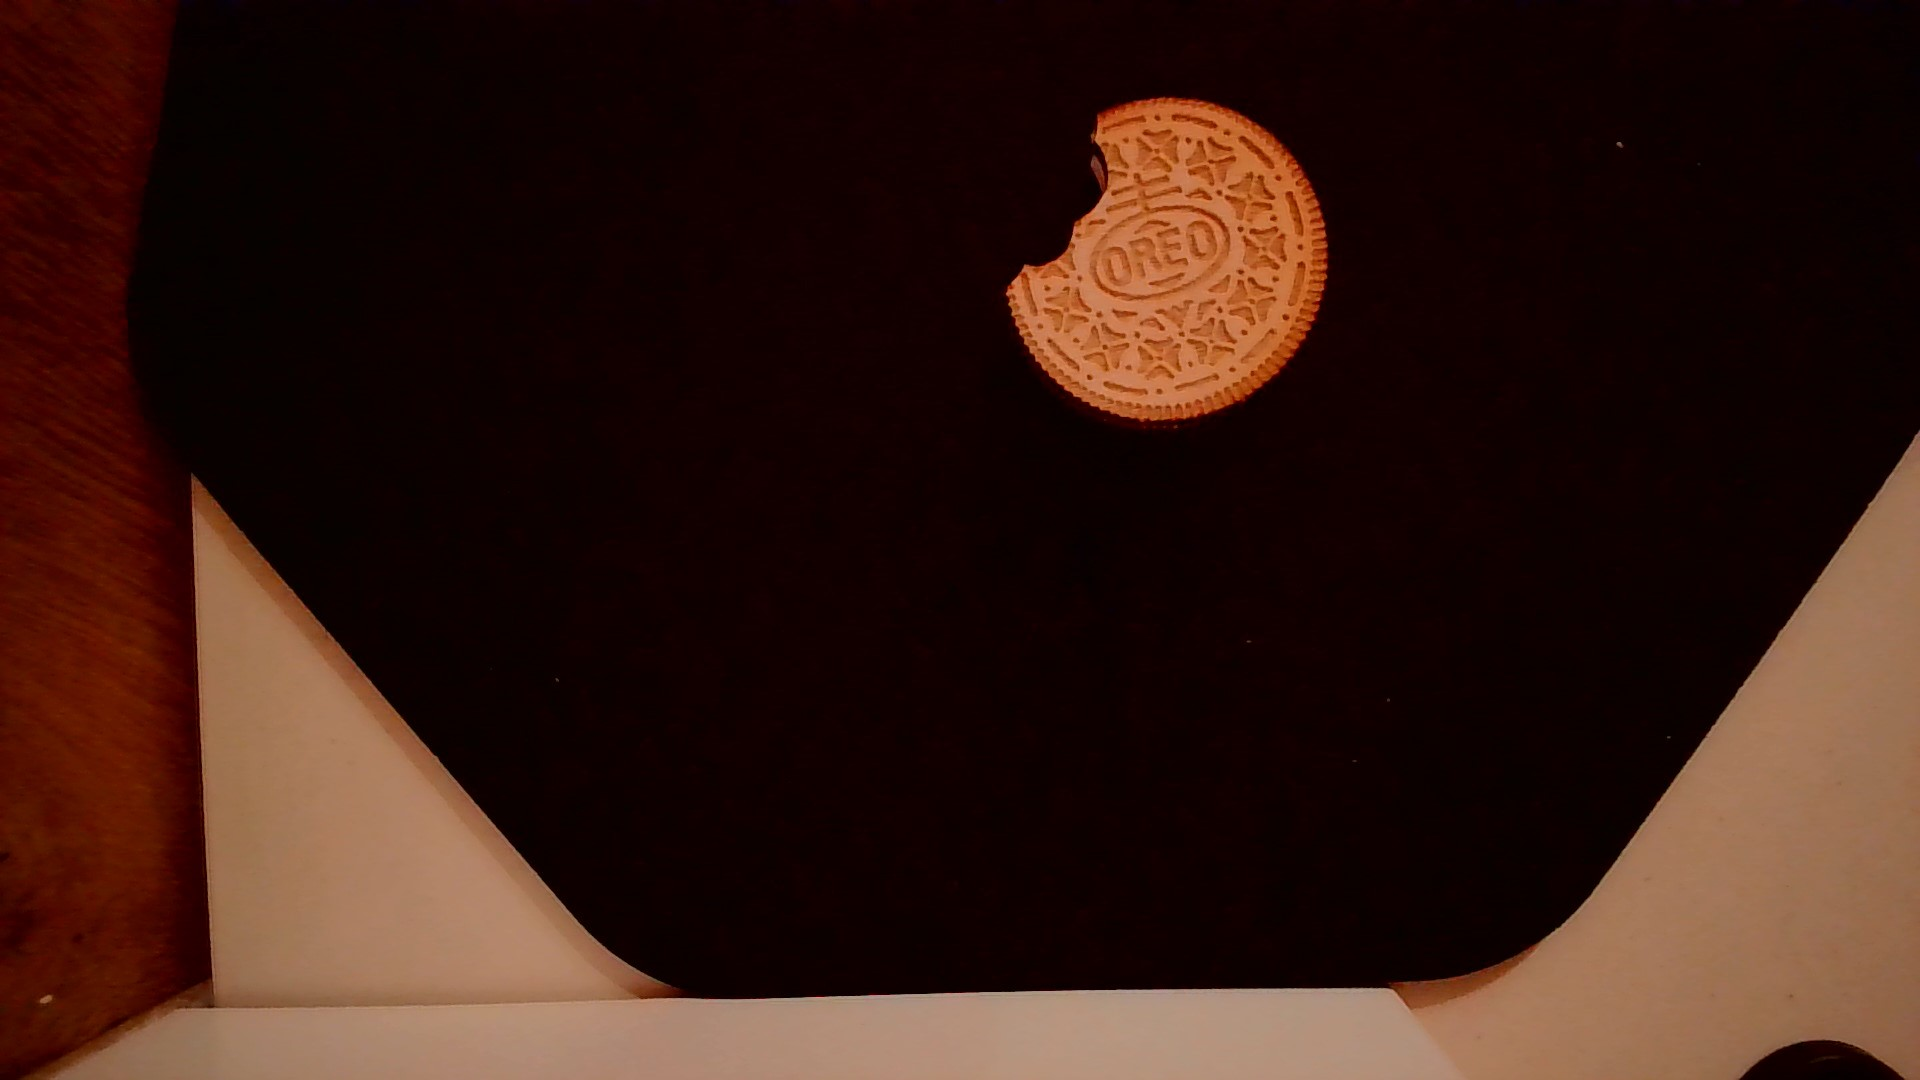Mangé: (996, 104, 1126, 291)
Oréo: (1001, 86, 1338, 431)
